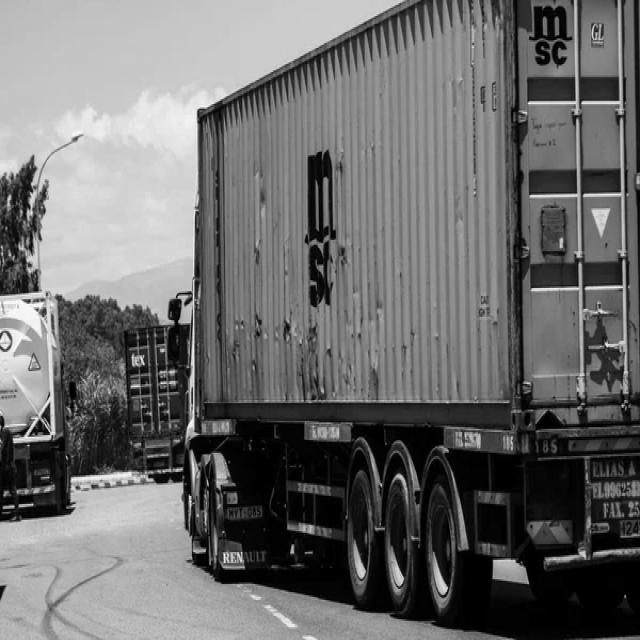Truck: (180, 0, 640, 628), (0, 292, 69, 511), (124, 326, 189, 484)
